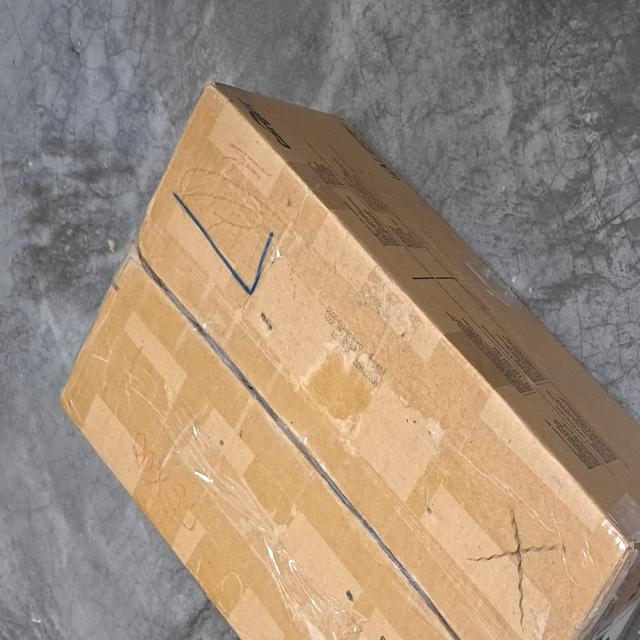cardboard: (58, 79, 639, 640)
